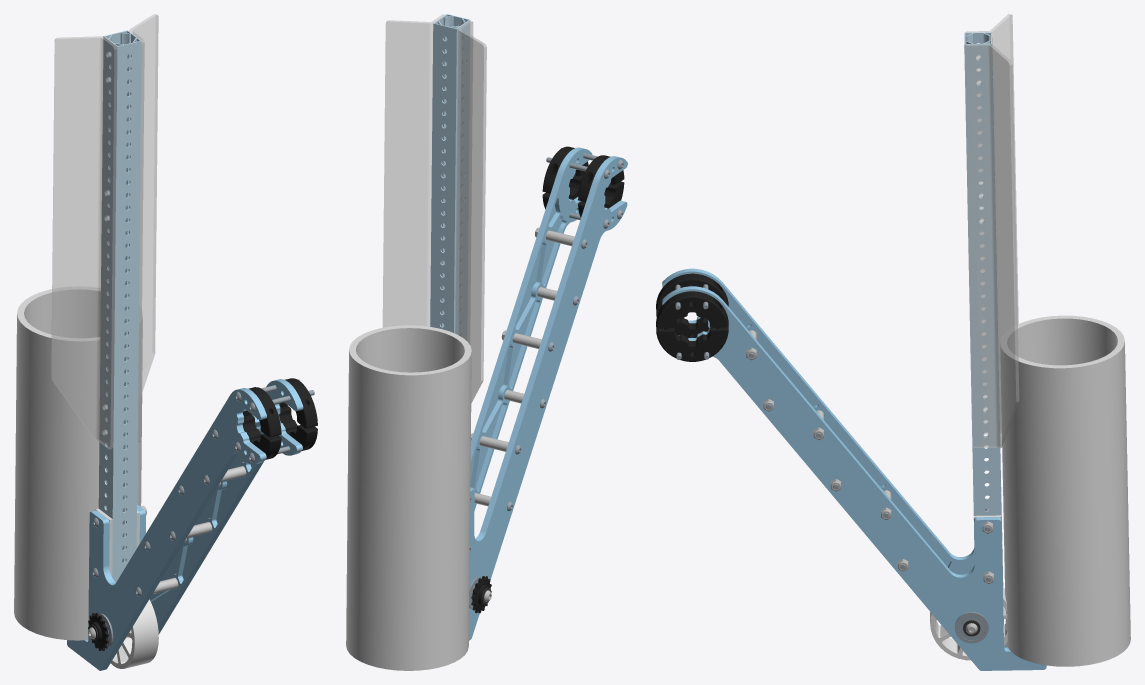
The picture shows the model from 3 angles, left to right: view 1: azimuth 30°, elevation 25°; view 2: azimuth 150°, elevation 25°; view 3: azimuth 270°, elevation 25°; orthographic projection. The views are drawn at different scales.
Parts seen in each view (by area): view 1: CORAL, Left Shoot Ramp, Tube 1"x1"x21.348", Left Arm Plate, Right Shoot Ramp, Right Arm Plate, REV-21-2581 (×4), am-3946 3IN 500Hex Molded Compliant Wheel VER 2, 16T #25 Hub Sprocket 1/2" Hex (REV-21-2016); view 2: CORAL, Right Shoot Ramp, Tube 1"x1"x21.348", Left Arm Plate, Left Shoot Ramp, Right Arm Plate, REV-21-2581 (×3), 16T #25 Hub Sprocket 1/2" Hex (REV-21-2016); view 3: CORAL, Right Arm Plate, Right Shoot Ramp, Tube 1"x1"x21.348", Left Shoot Ramp, Left Arm Plate, REV-21-2581 (×3), am-3946 3IN 500Hex Molded Compliant Wheel VER 2.
Boxes of the visible parts, <box> form: CORAL: <box>14,286,142,640</box>; Left Shoot Ramp: <box>51,36,117,449</box>; Tube 1"x1"x21.348": <box>98,30,141,582</box>; Left Arm Plate: <box>67,388,266,670</box>; Right Shoot Ramp: <box>129,14,158,442</box>; Right Arm Plate: <box>137,379,303,634</box>; REV-21-2581 (×4): <box>242,378,317,459</box>; am-3946 3IN 500Hex Molded Compliant Wheel VER 2: <box>110,599,158,668</box>; 16T #25 Hub Sprocket 1/2" Hex (REV-21-2016): <box>88,612,108,650</box>; CORAL: <box>346,325,471,670</box>; Right Shoot Ramp: <box>382,14,444,327</box>; Tube 1"x1"x21.348": <box>430,14,470,340</box>; Left Arm Plate: <box>469,156,627,640</box>; Left Shoot Ramp: <box>455,20,486,402</box>; Right Arm Plate: <box>470,147,592,510</box>; REV-21-2581 (×3): <box>542,146,624,217</box>; 16T #25 Hub Sprocket 1/2" Hex (REV-21-2016): <box>471,576,491,613</box>; CORAL: <box>1000,315,1130,666</box>; Right Arm Plate: <box>662,286,1046,670</box>; Right Shoot Ramp: <box>964,44,1019,448</box>; Tube 1"x1"x21.348": <box>964,32,1002,564</box>; Left Shoot Ramp: <box>965,14,1018,434</box>; Left Arm Plate: <box>662,268,1008,648</box>; REV-21-2581 (×3): <box>656,273,728,361</box>; am-3946 3IN 500Hex Molded Compliant Wheel VER 2: <box>930,587,1007,660</box>.
Bounding box in the file's own units: 0.1143 × 0.6292 × 0.4347.
